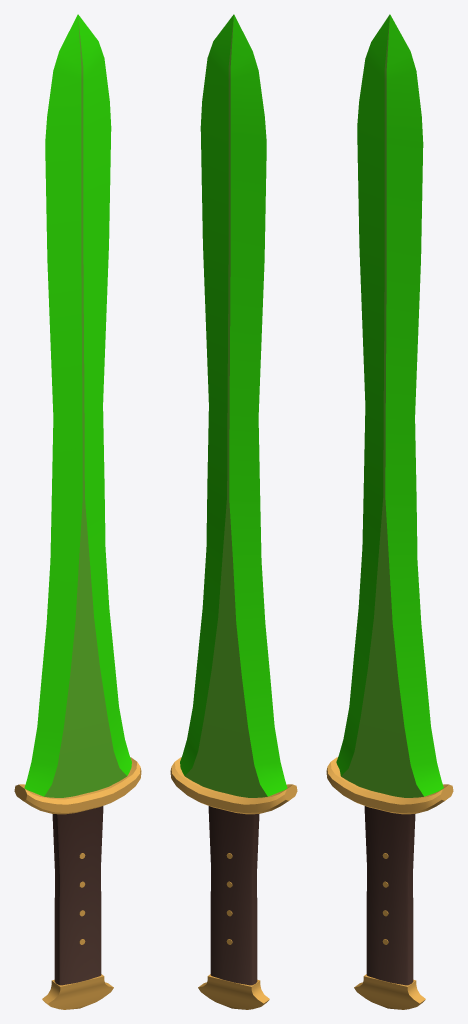
The model's file is SM_Sword19_Xiphos_7FantasyGreen.fbx.
3 views of the same model, side by side, from view 1: azimuth 30°, elevation 25°; view 2: azimuth 150°, elevation 25°; view 3: azimuth 330°, elevation 25° (orthographic).
Parts seen in each view (by area): view 1: Cube.415, Cube.417, Cube.416, Cube.418; view 2: Cube.415, Cube.417, Cube.416, Cube.418; view 3: Cube.415, Cube.417, Cube.416, Cube.418.
Boxes of the visible parts, x1,y1,x2,y2 form: Cube.415: [24, 14, 131, 797]; Cube.417: [52, 806, 103, 985]; Cube.416: [14, 757, 141, 814]; Cube.418: [42, 974, 113, 1009]; Cube.415: [180, 14, 287, 797]; Cube.417: [208, 806, 259, 985]; Cube.416: [170, 757, 297, 814]; Cube.418: [198, 974, 269, 1009]; Cube.415: [336, 14, 443, 797]; Cube.417: [364, 806, 415, 985]; Cube.416: [326, 757, 453, 814]; Cube.418: [354, 974, 425, 1009].
Bounding box in the file's own units: 0.0868 × 0.7078 × 0.0316.
